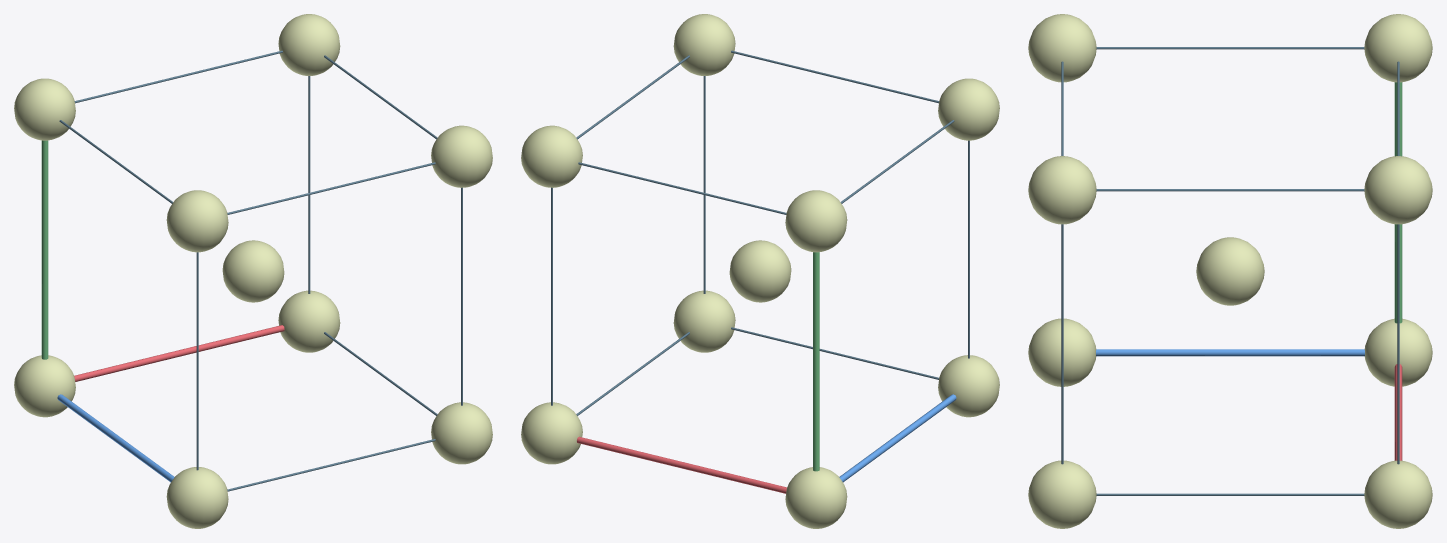
Rendered from nguyen-to-mo.glb.
3 views of the same model, side by side, from view 1: azimuth 30°, elevation 25°; view 2: azimuth 150°, elevation 25°; view 3: azimuth 270°, elevation 25° (orthographic). The views are drawn at different scales.
Parts seen in each view (by area): view 1: Mo · Mo · 1 (×9), Ô mạng và các trục a, b, c; view 2: Mo · Mo · 1 (×9), Ô mạng và các trục a, b, c; view 3: Mo · Mo · 1 (×9), Ô mạng và các trục a, b, c.
Part boxes in pixels (bbox=[...]): Mo · Mo · 1 (×9): bbox=[14, 14, 492, 528]; Ô mạng và các trục a, b, c: bbox=[41, 50, 462, 491]; Mo · Mo · 1 (×9): bbox=[521, 14, 999, 528]; Ô mạng và các trục a, b, c: bbox=[551, 50, 969, 493]; Mo · Mo · 1 (×9): bbox=[1028, 14, 1432, 528]; Ô mạng và các trục a, b, c: bbox=[1061, 47, 1402, 495].
Size of the model in its own units: 3.78 by 3.78 by 3.78.
